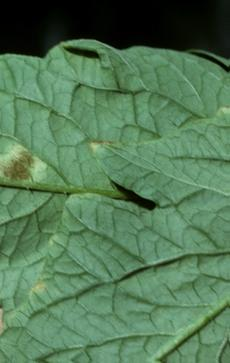Tomato mold leaf: (0, 40, 230, 321), (0, 100, 230, 363)
